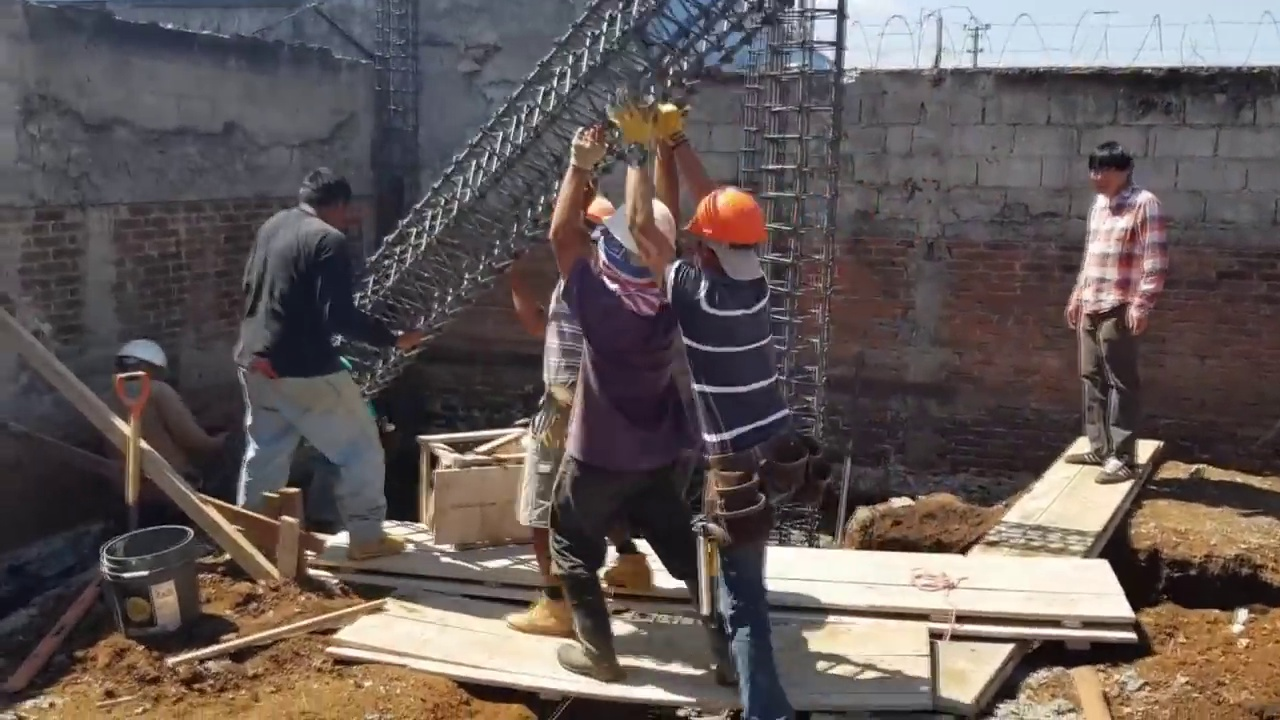helmet: (685, 187, 770, 256), (606, 197, 677, 267), (116, 340, 170, 372)
helmet-off: (298, 167, 354, 234), (1095, 139, 1146, 199)
helmet-on: (594, 197, 680, 310), (683, 183, 771, 291), (116, 339, 169, 385)
person: (625, 112, 814, 720), (548, 125, 703, 685), (239, 156, 400, 584), (503, 191, 615, 635), (1067, 156, 1171, 494), (99, 340, 229, 486)
